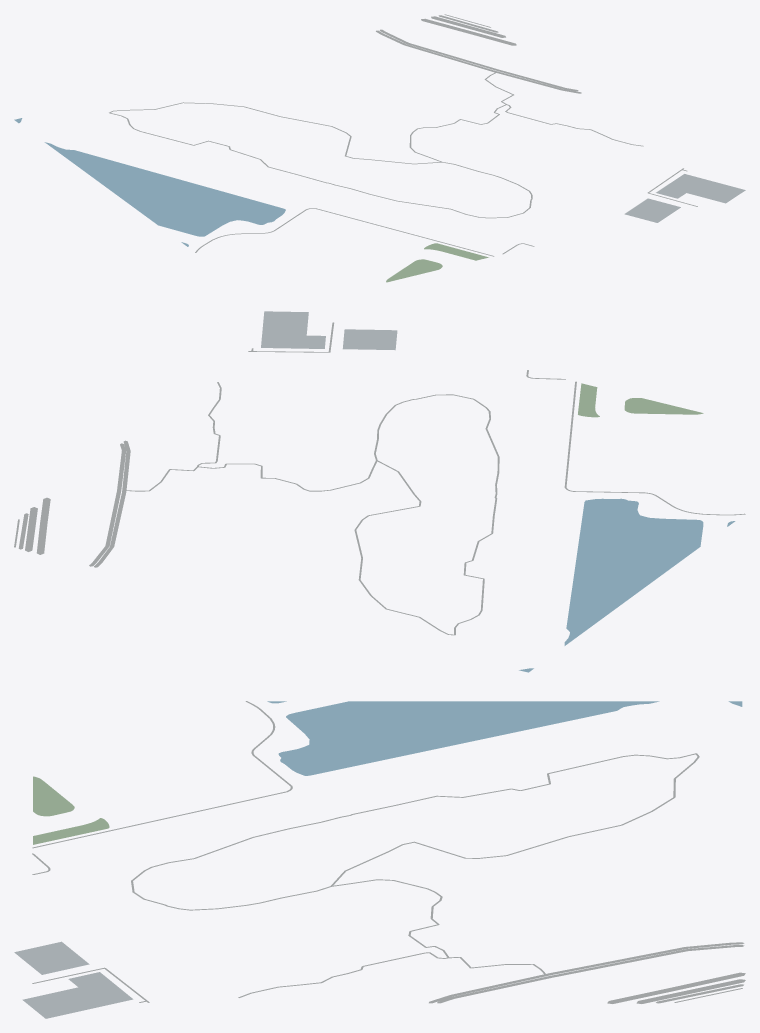
File: -23_13-known-fine.glb
3 views of the same model, one above another, from view 1: azimuth 30°, elevation 25°; view 2: azimuth 150°, elevation 25°; view 3: azimuth 270°, elevation 25° (orthographic). The views are drawn at different scales.
Bounding box in the file's own units: 1055 × 0.15 × 1027.
